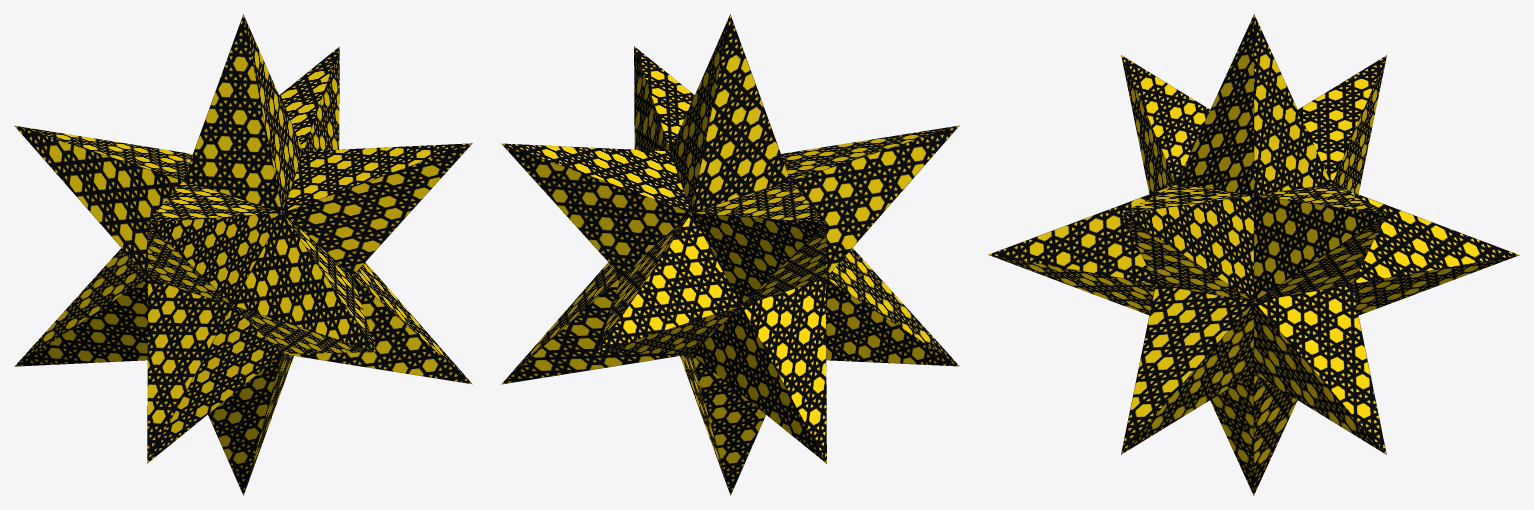
File: great-rhombihexacron.gltf
3 views of the same model, side by side, from view 1: azimuth 30°, elevation 25°; view 2: azimuth 150°, elevation 25°; view 3: azimuth 270°, elevation 25° (orthographic).
Parts seen in each view (by area): view 1: Mesh; view 2: Mesh; view 3: Mesh.
Part boxes in pixels (x1,y1,x2,y2): Mesh: (14, 14, 472, 495); Mesh: (501, 14, 959, 495); Mesh: (988, 14, 1519, 495).
Bounding box in the file's own units: 3.7 × 5.23 × 5.23.
Materials: 1 (1 with a texture image).
